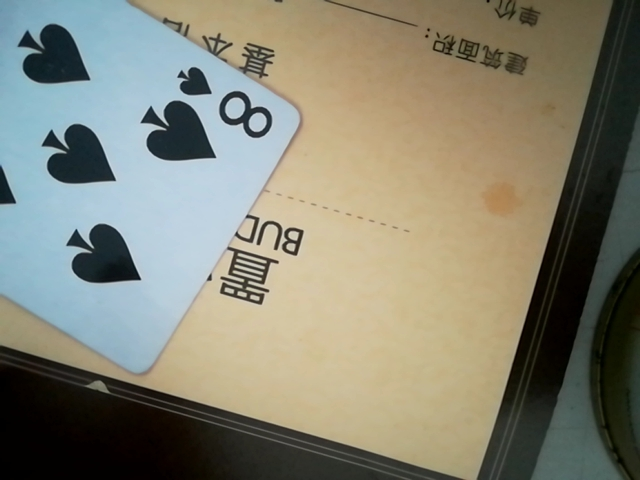ht 8: (0, 0, 307, 380)
